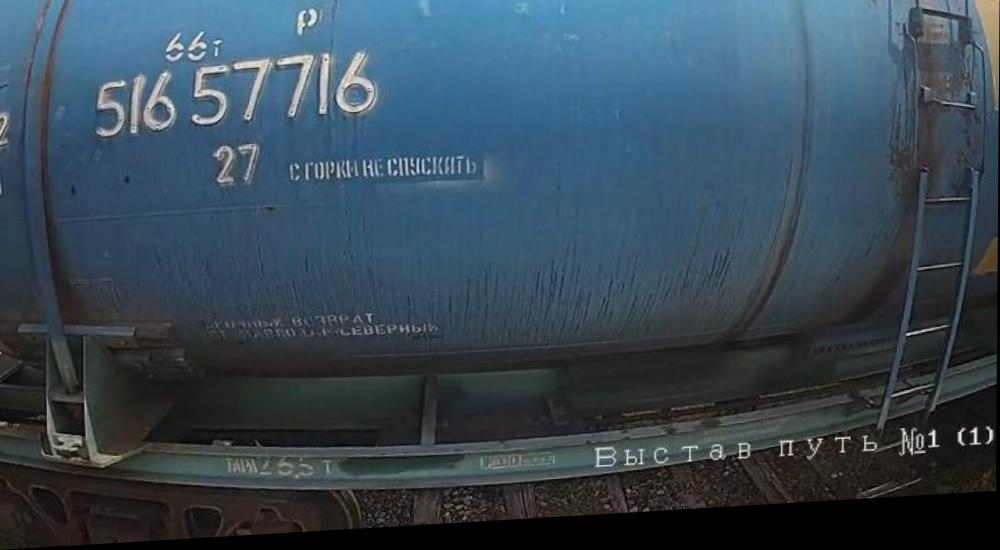Wagon-number: (88, 50, 386, 147)
